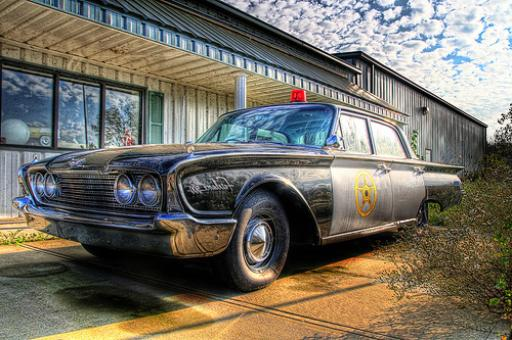Cheetah: (8, 66, 480, 310)
